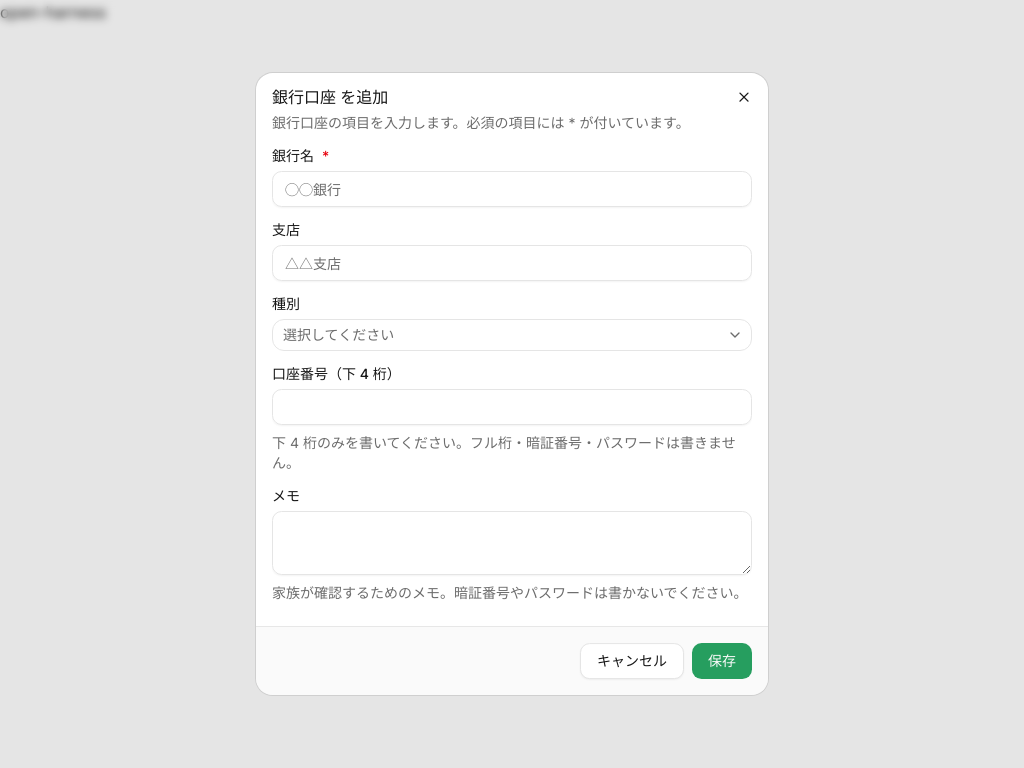
Test: EntryDialog — バリデーションと送信 › digits4 に 5 桁を入れると Zod のエラー文が出る
This screenshot has width=1024, height=768.
Type "○○銀行" into the field labelled "銀行名 *" at (512, 189), box left=272, top=171, right=752, bottom=207
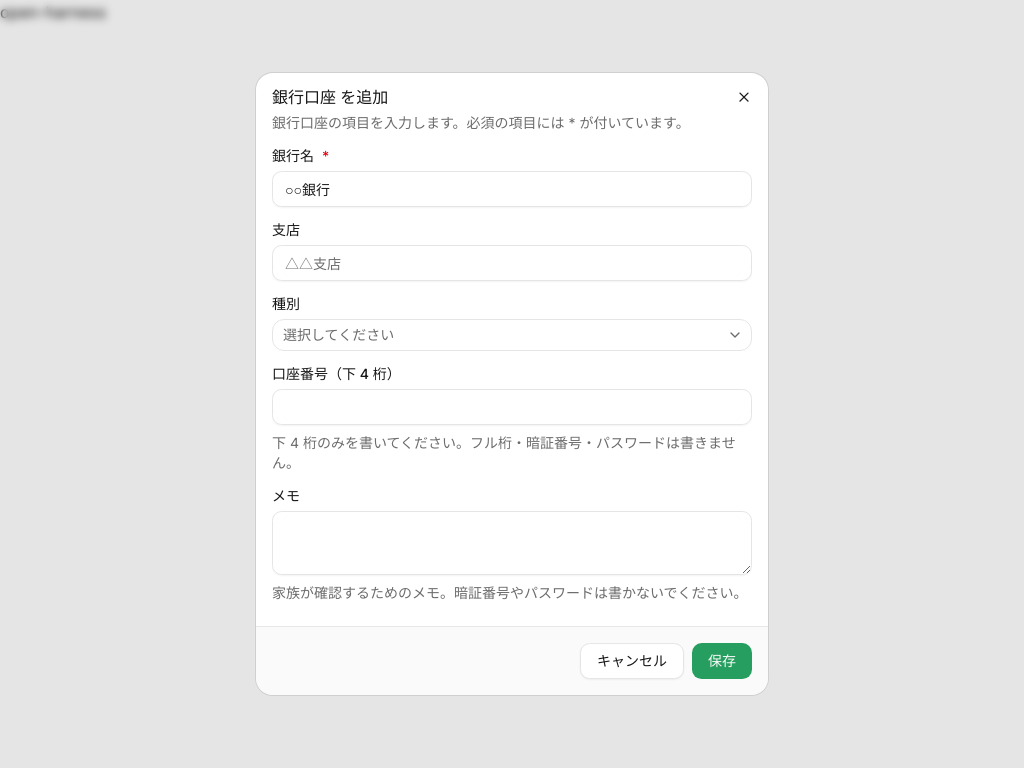
Type "12345" into the field labelled "口座番号（下 4 桁）" at (512, 407), box left=272, top=389, right=752, bottom=425
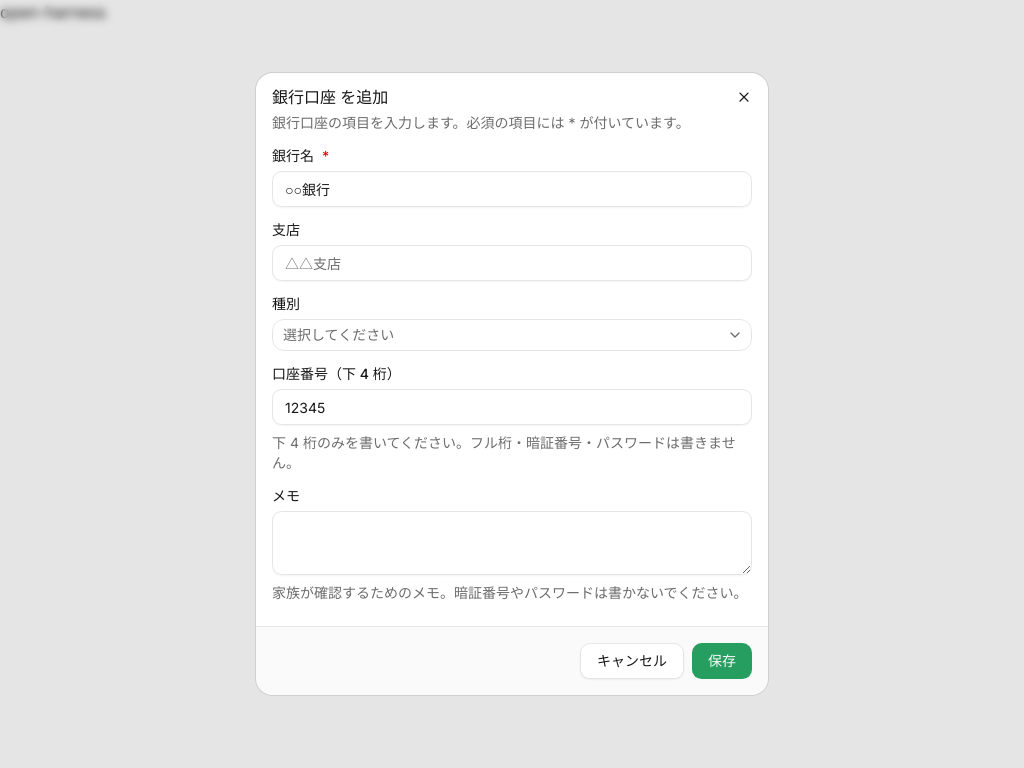
Click the button "保存" at (722, 661), box left=692, top=643, right=752, bottom=679
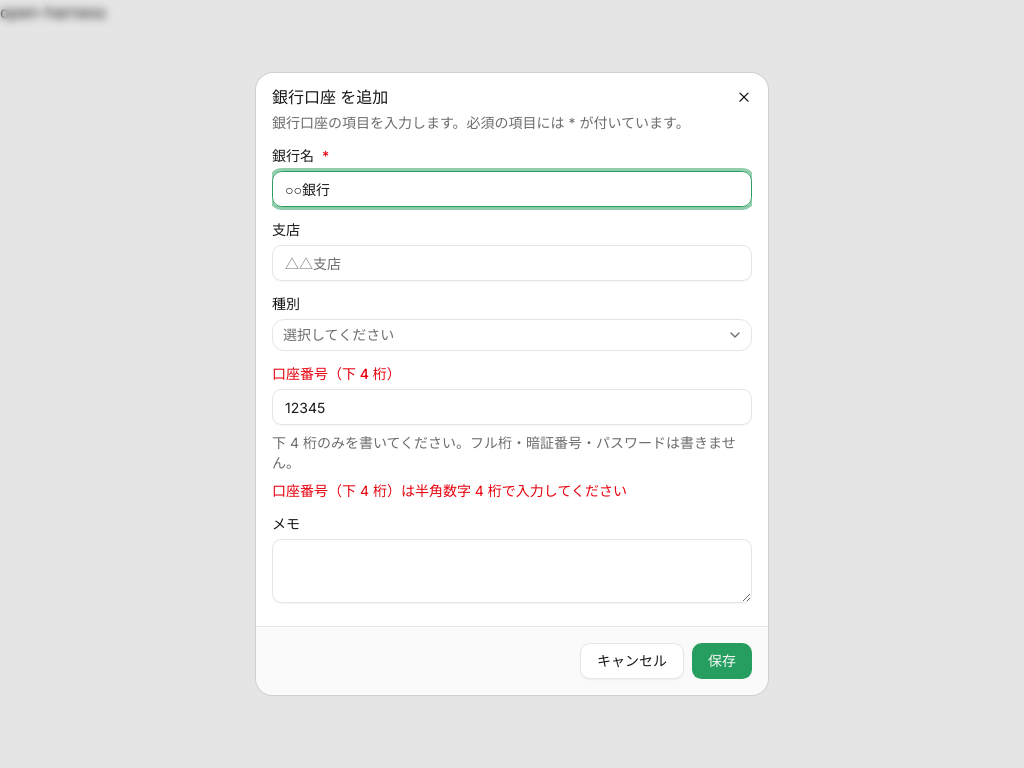
Result: the text "口座番号（下 4 桁）は半角数字 4 桁で入力してください" is shown at left=272, top=482, right=627, bottom=499
